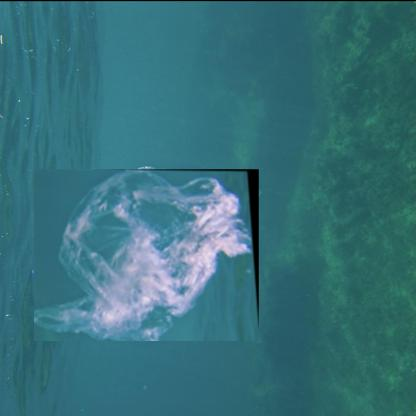waste: (34, 167, 260, 340)
